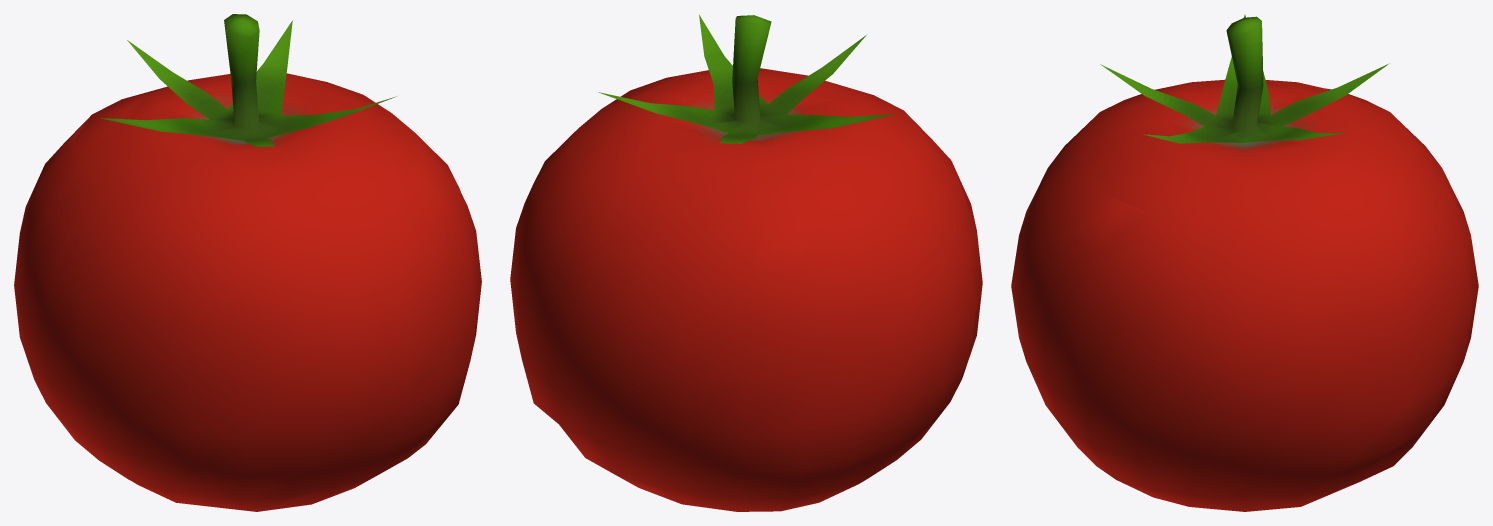
File: Tomato.obj
The picture shows the model from 3 angles, left to right: view 1: azimuth 30°, elevation 25°; view 2: azimuth 150°, elevation 25°; view 3: azimuth 270°, elevation 25°; orthographic projection. The views are drawn at different scales.
Visible parts, largest first — view 1: Tomato_Whole; view 2: Tomato_Whole; view 3: Tomato_Whole.
Part boxes in pixels (x1,y1,x2,y2): Tomato_Whole: (14, 14, 481, 511); Tomato_Whole: (510, 14, 982, 511); Tomato_Whole: (1011, 14, 1478, 511).
Size of the model in its own units: 0.7651 by 0.8289 by 0.7651.
Materials: 1 (1 with a texture image).
